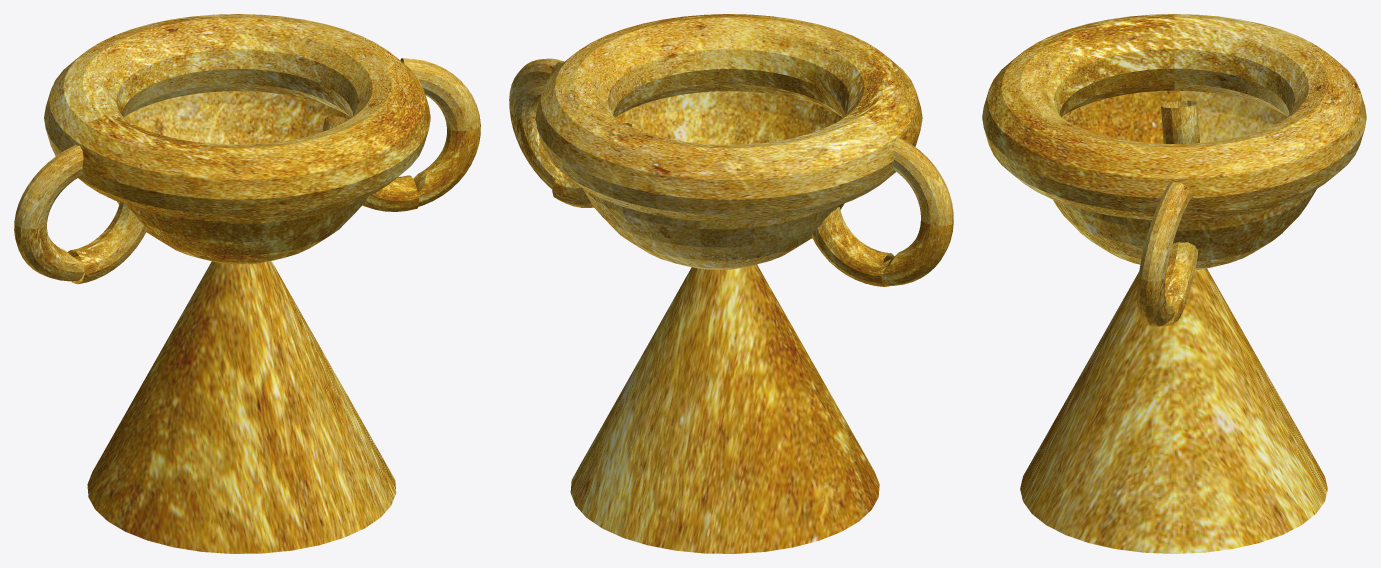
The model's file is Trohpys.obj.
3 views of the same model, side by side, from view 1: azimuth 30°, elevation 25°; view 2: azimuth 150°, elevation 25°; view 3: azimuth 270°, elevation 25° (orthographic).
Visible parts, largest first — view 1: 円錐, cup_トーラス, Body_球, トーラス.004, LeftHandle_トーラス.001, トーラス.002, トーラス.003; view 2: 円錐, cup_トーラス, Body_球, LeftHandle_トーラス.001, トーラス.004, トーラス.002, トーラス.003; view 3: 円錐, cup_トーラス, Body_球, トーラス.004, トーラス.003, トーラス.002.
Part boxes in pixels (x1=…): 円錐: x1=87, y1=261, x2=396, y2=553; cup_トーラス: x1=44, y1=14, x2=430, y2=221; Body_球: x1=117, y1=91, x2=368, y2=264; トーラス.004: x1=400, y1=58, x2=480, y2=206; LeftHandle_トーラス.001: x1=14, y1=145, x2=84, y2=281; トーラス.002: x1=67, y1=202, x2=147, y2=284; トーラス.003: x1=322, y1=116, x2=418, y2=211; 円錐: x1=570, y1=264, x2=879, y2=553; cup_トーラス: x1=535, y1=14, x2=922, y2=221; Body_球: x1=582, y1=91, x2=844, y2=269; LeftHandle_トーラス.001: x1=881, y1=138, x2=953, y2=285; トーラス.004: x1=509, y1=58, x2=564, y2=188; トーラス.002: x1=811, y1=207, x2=894, y2=286; トーラス.003: x1=552, y1=123, x2=632, y2=207; 円錐: x1=1020, y1=268, x2=1327, y2=553; cup_トーラス: x1=982, y1=14, x2=1366, y2=220; Body_球: x1=1053, y1=90, x2=1316, y2=270; トーラス.004: x1=1137, y1=182, x2=1190, y2=326; トーラス.003: x1=1161, y1=242, x2=1198, y2=326; トーラス.002: x1=1161, y1=100, x2=1199, y2=143.
Bounding box in the file's own units: 3.37 × 2.9 × 2.5.
1 material, 1 textured.
